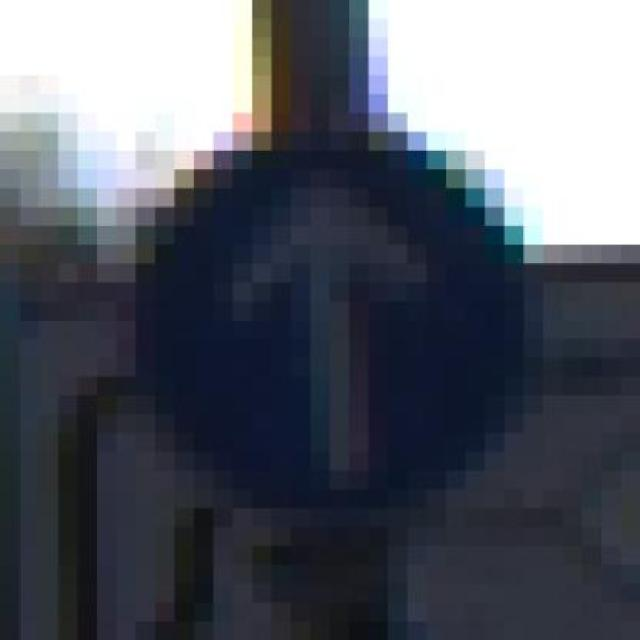Straight Ahead Only: (97, 132, 581, 546)
